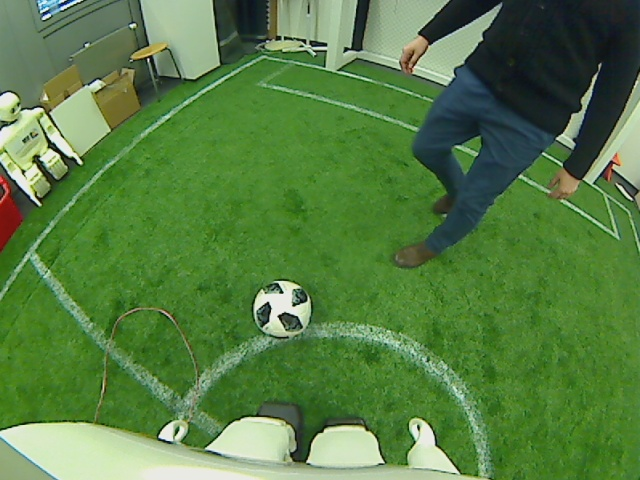ball: (251, 277, 312, 339)
